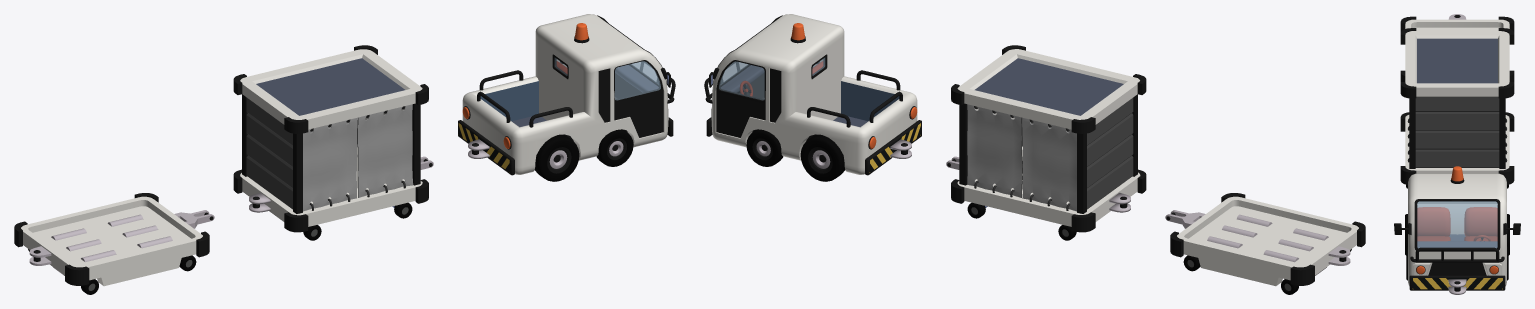
Rendered from airport_baggage_truck.glb.
3 renders of one model, left to right at view 1: azimuth 30°, elevation 25°; view 2: azimuth 150°, elevation 25°; view 3: azimuth 270°, elevation 25°, orthographic. The views are drawn at different scales.
Visible parts, largest first — view 1: 21.2.BaggageTruck, 21.1.BaggageTruck, 21.3.BaggageTruck; view 2: 21.2.BaggageTruck, 21.1.BaggageTruck, 21.3.BaggageTruck; view 3: 21.2.BaggageTruck, 21.1.BaggageTruck, 21.3.BaggageTruck.
Boxes of the visible parts, <box> form: 21.2.BaggageTruck: <box>233,45,433,240</box>; 21.1.BaggageTruck: <box>458,14,675,181</box>; 21.3.BaggageTruck: <box>14,193,214,294</box>; 21.2.BaggageTruck: <box>946,45,1146,240</box>; 21.1.BaggageTruck: <box>704,14,921,181</box>; 21.3.BaggageTruck: <box>1165,193,1365,294</box>; 21.2.BaggageTruck: <box>1400,28,1514,188</box>; 21.1.BaggageTruck: <box>1394,166,1520,294</box>; 21.3.BaggageTruck: <box>1400,14,1514,81</box>.
Size of what is drawn, in the model's own units: 24.74 by 4.67 by 4.88.
1 material, 1 textured.
